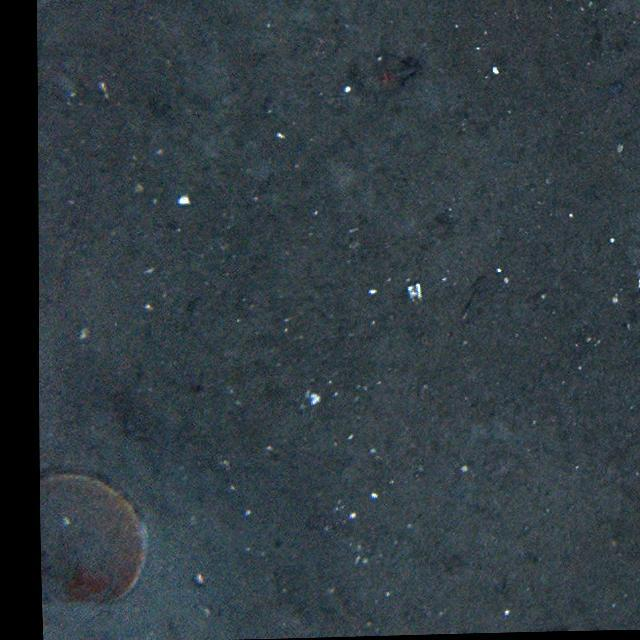scallop: (39, 476, 148, 608)
